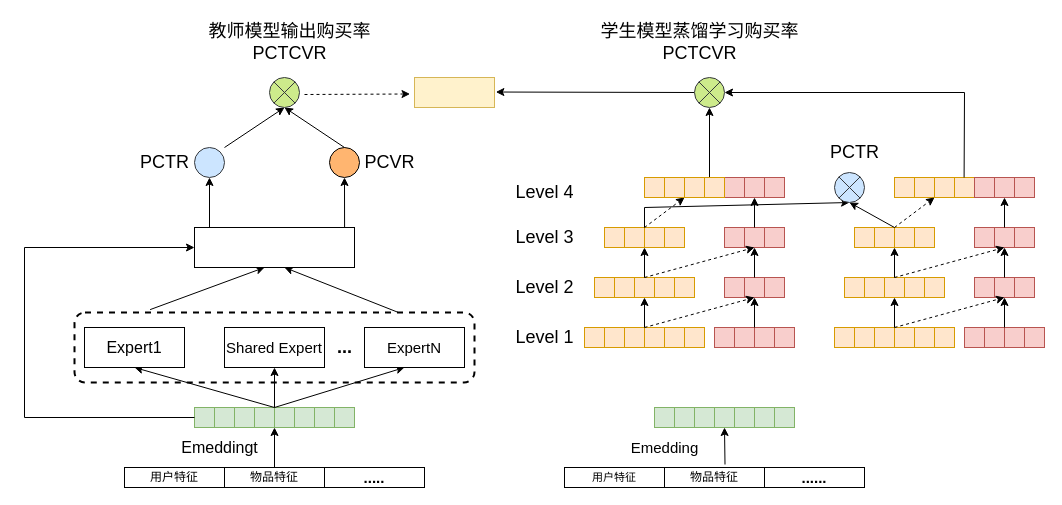
Some shapes in this 1062 by 505 pixel diagram are drawn without their labels. The shapes that lost their labels are listed below. From the top down, each one's centre as x and y in pixels, then its label:
the point at 454,92: KL Loss
the point at 274,247: MultigateMerge
